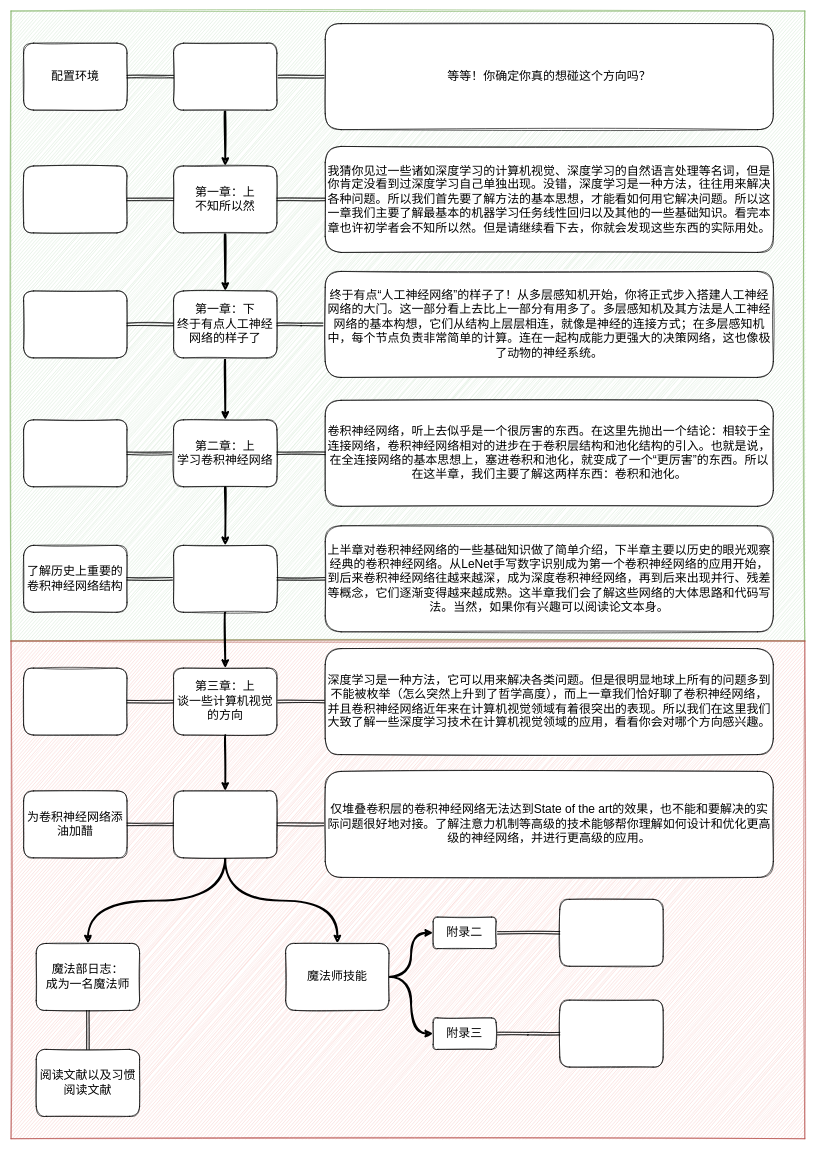
Image size: 816x1150. Some labels were removed from this diagram. The box of each missing label's shape, as (x1, y1, x2, y2) in pixels:
入门完成！接下来初步选择自己的研究方向: (23, 667, 127, 735)
卷积和池化构造卷积神经网络: (23, 419, 127, 487)
在枯燥的入门知识中认识到深度学习只是一种方法: (23, 165, 127, 233)
尝试了解人工神经网络的基本构想：多层感知机及其方法并解决简单问题: (23, 290, 127, 358)
第三章：下 了解更高级的技术: (173, 790, 277, 858)
第二章：下 经典卷积神经网络: (173, 545, 277, 612)
第零章 干劲十足: (173, 43, 277, 110)
魔法的本质之一：数学、线性代数、概率和统计学: (559, 899, 663, 966)
魔法的本质之二：信号和采样的学问: (559, 999, 663, 1067)
